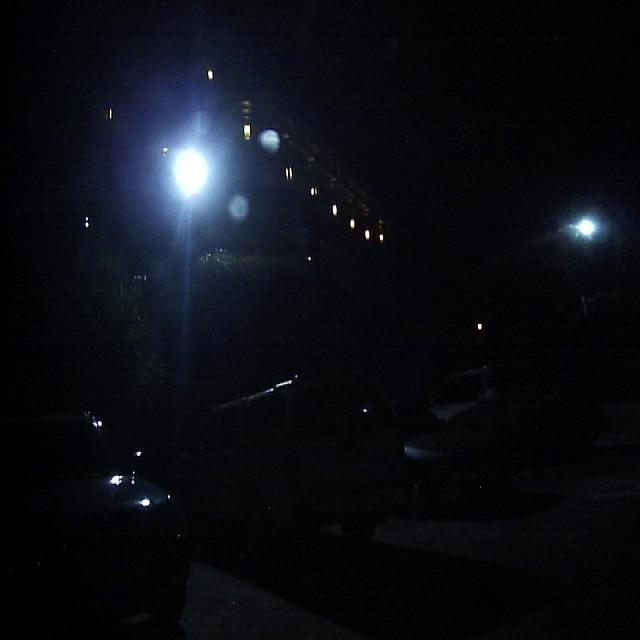Car: (58, 291, 423, 619)
